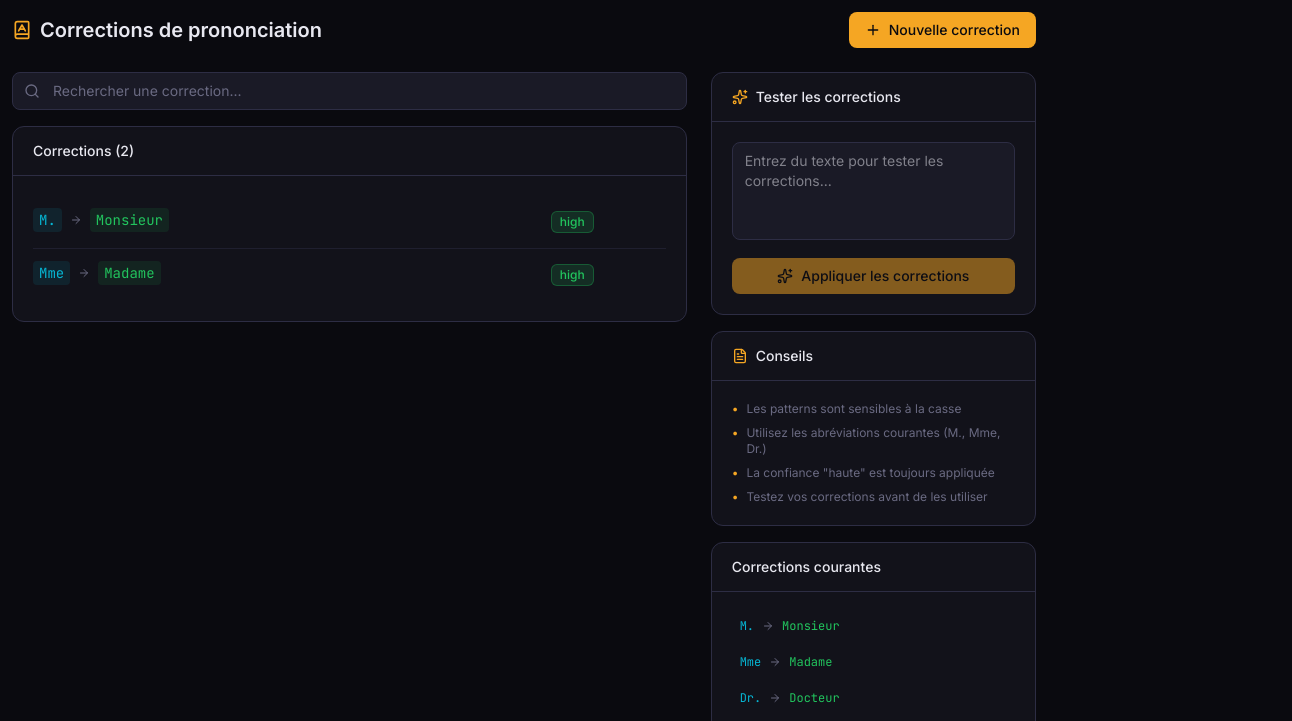
Test case: CorrectionsPage › opens add form on click
Click the button "Nouvelle correction": [942, 30] box [849,12,1036,48]
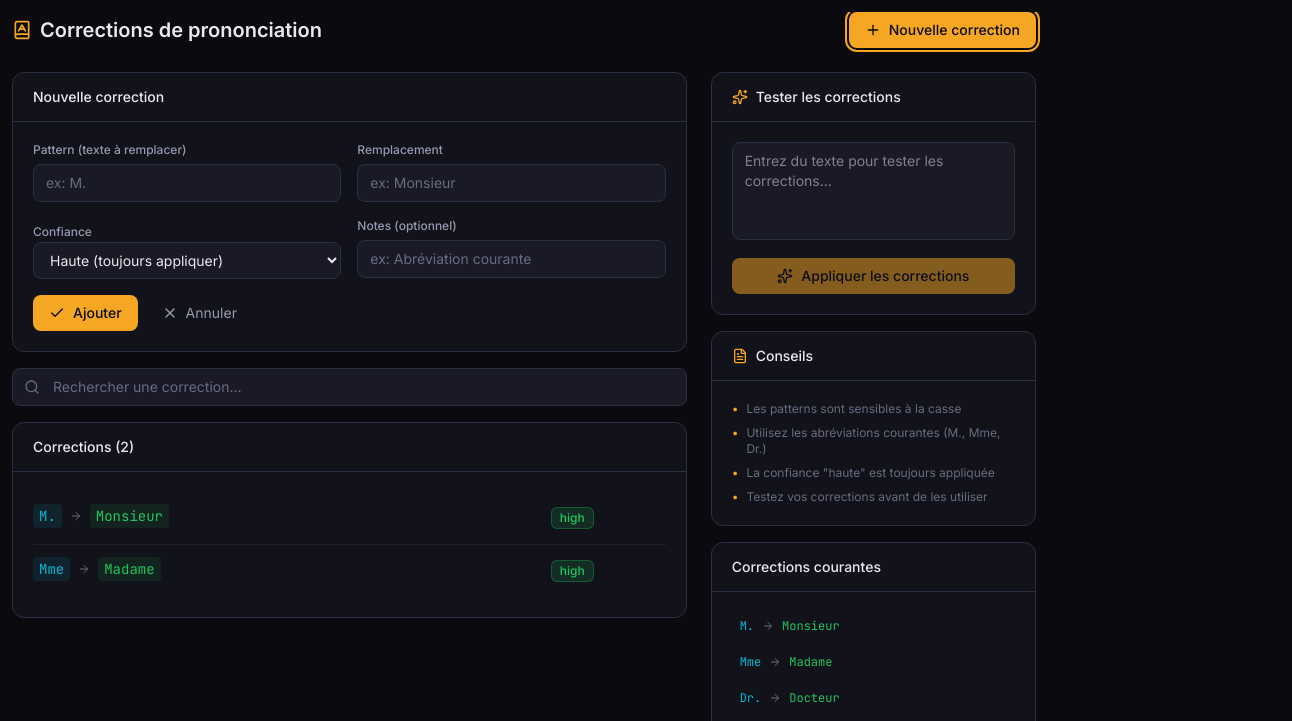
expect the field with placeholder "ex: M." is shown: met, box [33,164,341,202]
